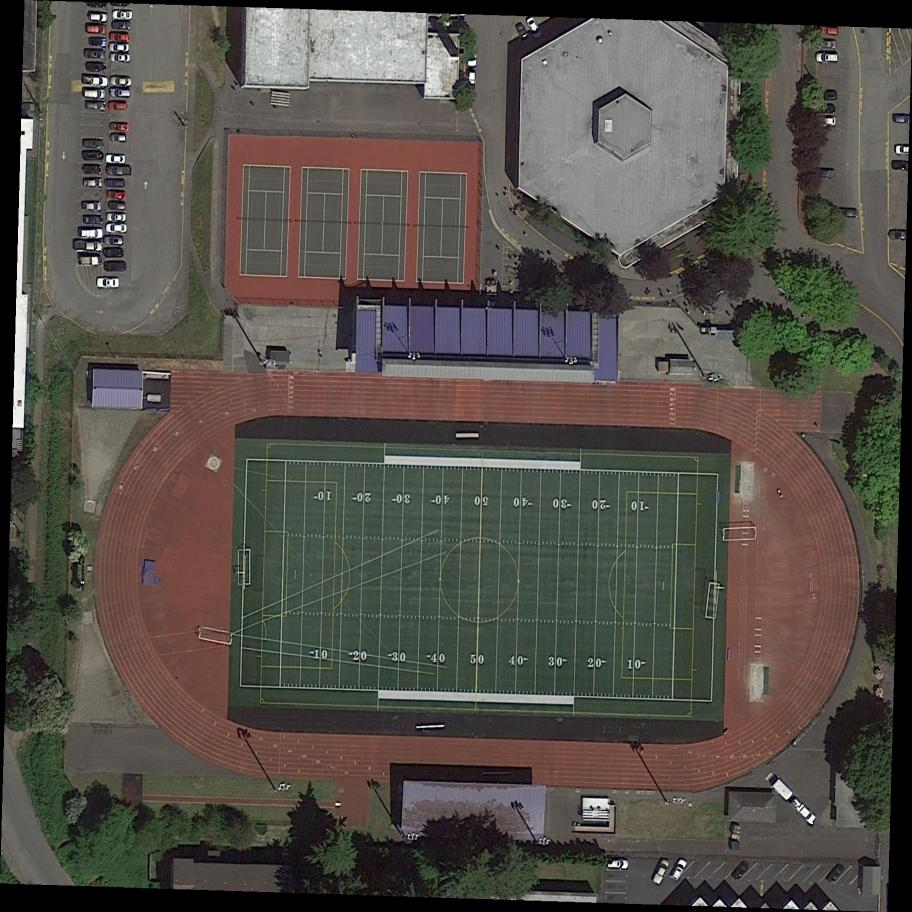small-vehicle: (650, 856, 672, 886), (669, 856, 690, 883), (730, 859, 753, 883), (825, 861, 847, 886), (80, 73, 110, 89), (515, 23, 534, 48), (525, 16, 544, 40), (72, 239, 103, 252), (78, 228, 104, 240), (81, 138, 106, 150), (103, 261, 127, 273), (815, 52, 839, 64), (606, 858, 630, 870), (106, 165, 132, 176), (105, 222, 128, 234), (84, 99, 107, 111), (108, 42, 131, 54), (109, 52, 132, 64), (836, 207, 858, 219), (78, 256, 102, 267), (81, 150, 105, 161), (109, 76, 133, 87), (83, 88, 106, 99), (107, 200, 128, 212), (105, 212, 127, 223), (102, 235, 124, 246), (82, 214, 104, 225), (82, 177, 104, 188), (81, 164, 103, 175), (85, 61, 107, 72), (84, 49, 106, 60), (112, 10, 134, 21), (818, 25, 840, 36), (109, 87, 131, 98), (96, 278, 120, 288), (105, 189, 126, 200), (109, 32, 130, 43), (107, 101, 128, 112), (103, 247, 123, 258), (80, 201, 102, 211), (89, 12, 109, 23), (108, 123, 130, 133), (891, 160, 909, 172), (105, 154, 126, 164), (888, 230, 907, 241), (111, 21, 131, 31), (108, 133, 127, 143), (105, 179, 126, 188), (88, 37, 107, 46), (893, 114, 910, 124), (86, 25, 107, 33), (820, 169, 835, 179), (895, 145, 910, 155), (823, 39, 837, 49), (468, 72, 477, 87), (468, 56, 478, 68), (824, 92, 837, 100), (826, 117, 836, 126)
